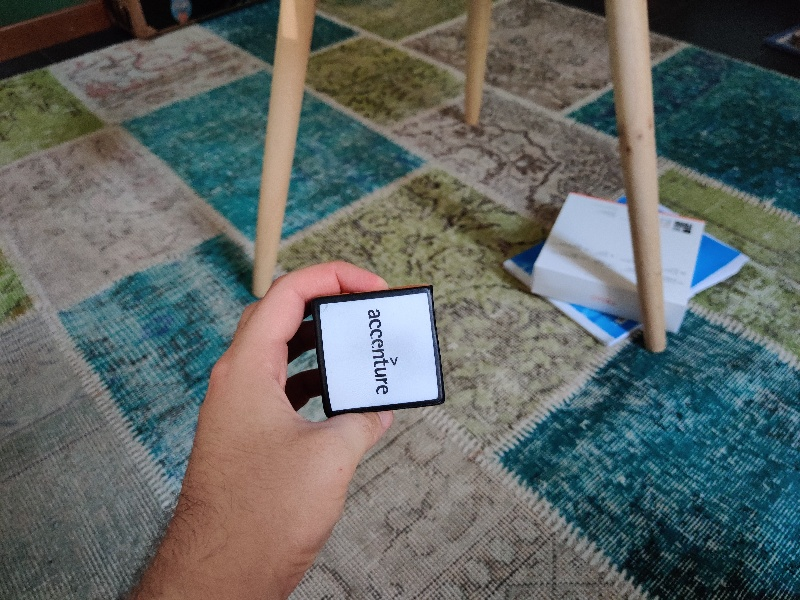rubik: (313, 285, 445, 418)
